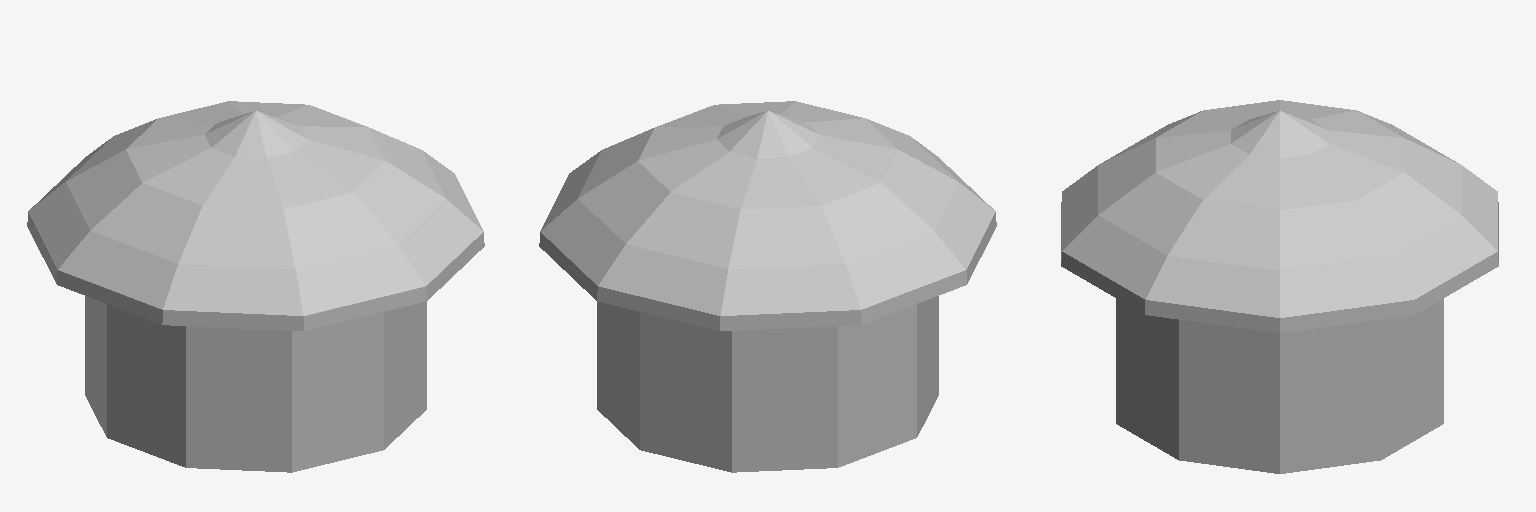
The model's file is Case01.obj.
3 views of the same model, side by side, from view 1: azimuth 30°, elevation 25°; view 2: azimuth 150°, elevation 25°; view 3: azimuth 270°, elevation 25° (orthographic).
Visible parts, largest first — view 1: Case01; view 2: Case01; view 3: Case01.
Boxes of the visible parts, box(x1,y1,x2,y2) form: Case01: box(27, 101, 484, 472); Case01: box(539, 101, 996, 472); Case01: box(1061, 100, 1498, 473).
Bounding box in the file's own units: 7.94 × 5.54 × 7.56.